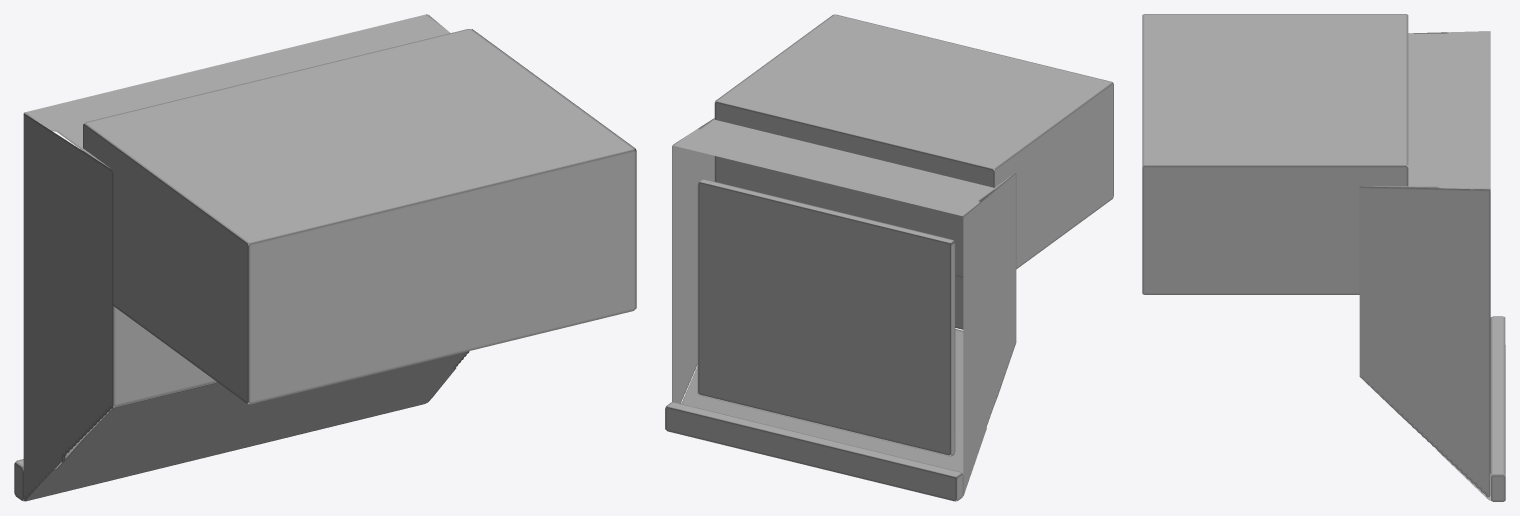
Rendered from pz_extractor_hood.obj.
The picture shows the model from 3 angles, left to right: view 1: azimuth 30°, elevation 25°; view 2: azimuth 150°, elevation 25°; view 3: azimuth 270°, elevation 25°; orthographic projection. The views are drawn at different scales.
Size of the model in its own units: 1 by 0.98 by 0.9695.
1 material, 1 textured.
